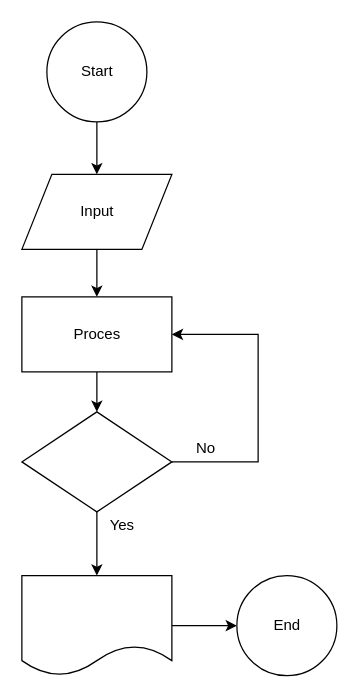
The diagram is 359 pixels wide and 698 high, and some of its shapes have lost their labels. Here are the shapes that lost their labels. From the top down, the centre of each, then its label:
(96,461): Decision
(96,625): Output
